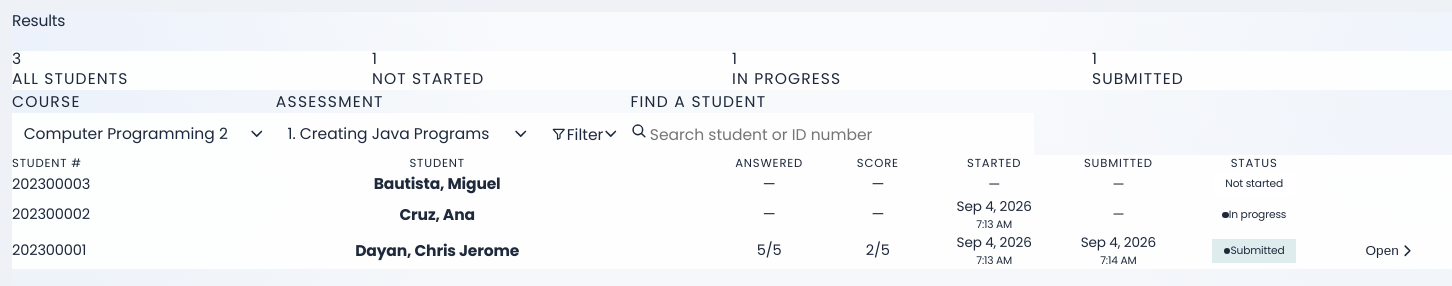
narrowing by state › counts the class in each state, and holds those counts through a search
Expected: the text "Dayan, Chris Jerome" is shown, x1=355 y1=240 x2=519 y2=260
Type "ana" into the search field named "Search students". click: (841, 134)
box: x1=648 y1=122 x2=1034 y2=146
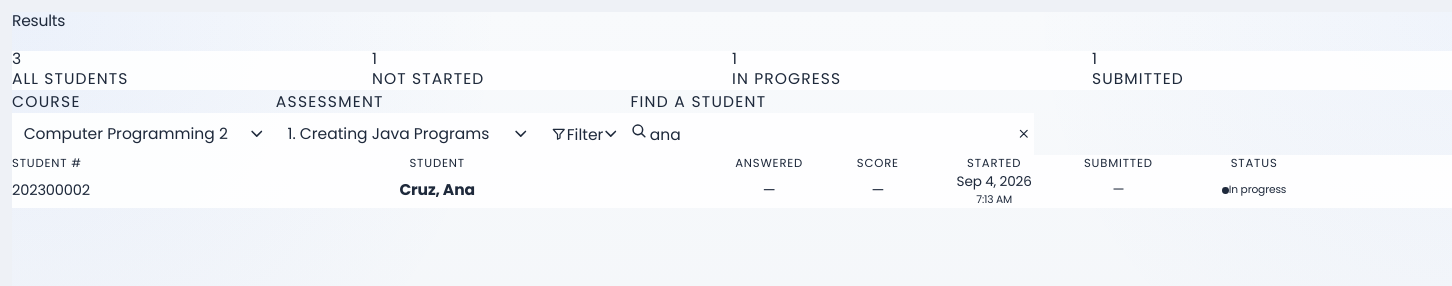
Click the dropdown named "Filter by status". click: (585, 134)
box: x1=540 y1=113 x2=630 y2=155
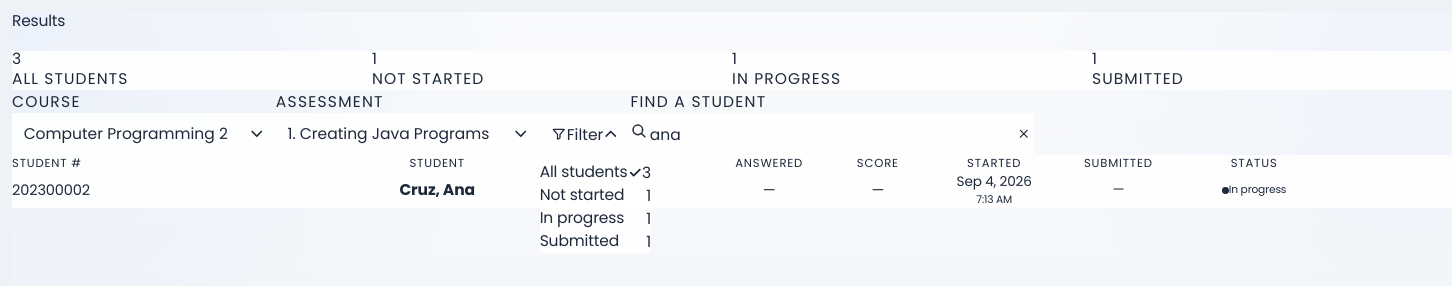
Expected: the options read "All students3", "Not started1", "In progress1", "Submitted1", in this order, x1=540 y1=161 x2=651 y2=184; x1=540 y1=184 x2=651 y2=207; x1=540 y1=207 x2=651 y2=230; x1=540 y1=230 x2=651 y2=253
